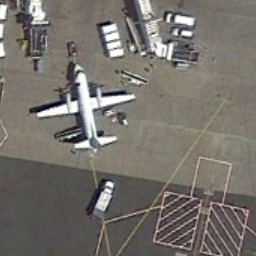Airplane: (28, 51, 143, 160)
